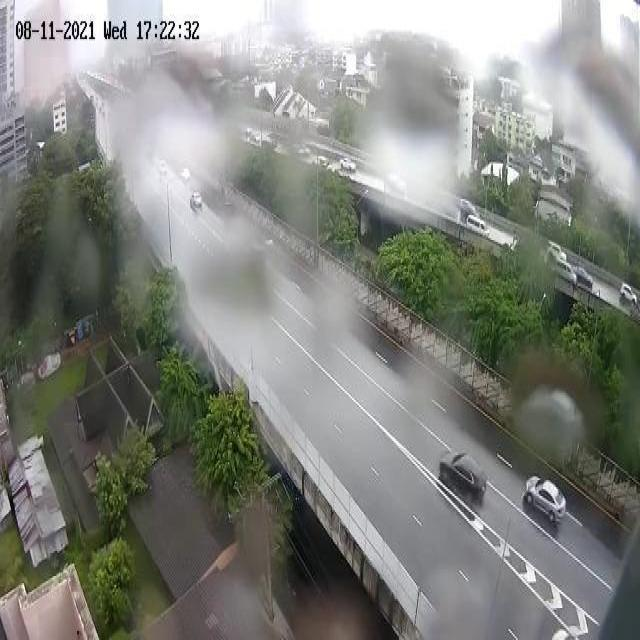Car: (512, 457, 571, 536), (429, 450, 491, 522), (382, 160, 420, 213), (455, 204, 498, 243), (178, 184, 210, 228), (578, 264, 607, 300), (623, 265, 640, 317), (338, 148, 362, 184)
